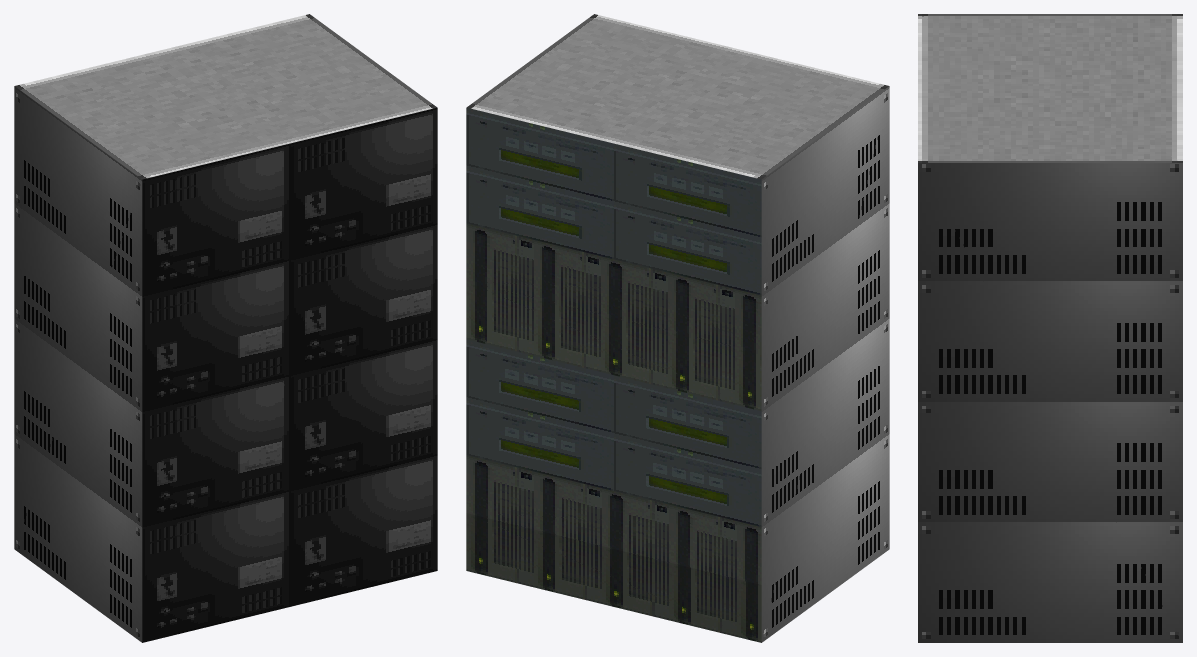
Rendered from mainframe.glb.
The picture shows the model from 3 angles, left to right: view 1: azimuth 30°, elevation 25°; view 2: azimuth 150°, elevation 25°; view 3: azimuth 270°, elevation 25°; orthographic projection. The views are drawn at different scales.
Parts seen in each view (by area): view 1: Object; view 2: Object; view 3: Object.
Boxes of the visible parts, x1=… form: Object: x1=14, y1=14, x2=437, y2=642; Object: x1=466, y1=14, x2=889, y2=642; Object: x1=918, y1=14, x2=1182, y2=642.
Bounding box in the file's own units: 1.67 × 2.5 × 1.25.
9 materials, 9 textured.
